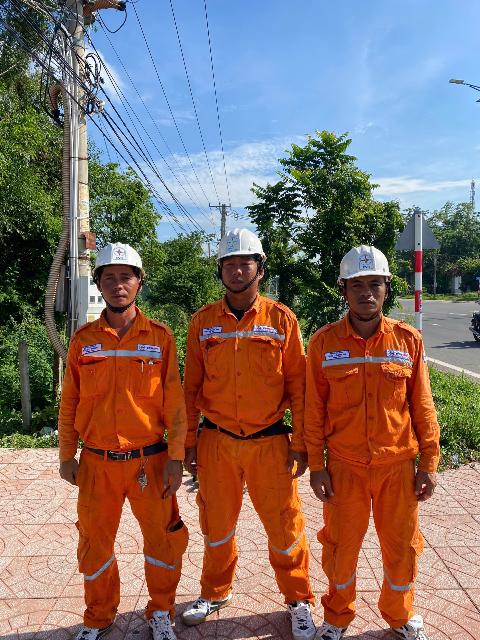helmet: (213, 208, 272, 280), (85, 235, 157, 283), (327, 243, 397, 285)
shoes: (181, 583, 235, 631), (56, 605, 128, 640), (280, 580, 314, 640), (374, 605, 430, 640), (144, 597, 178, 640), (306, 612, 346, 640)
